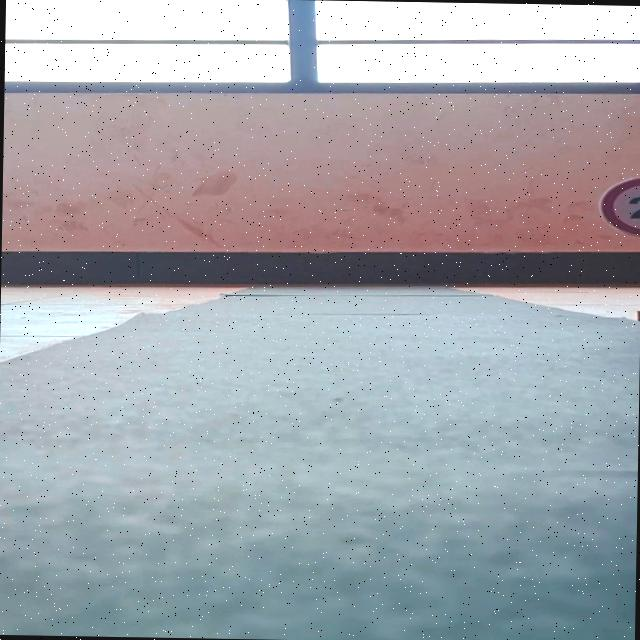Speed20: (587, 168, 640, 243)
